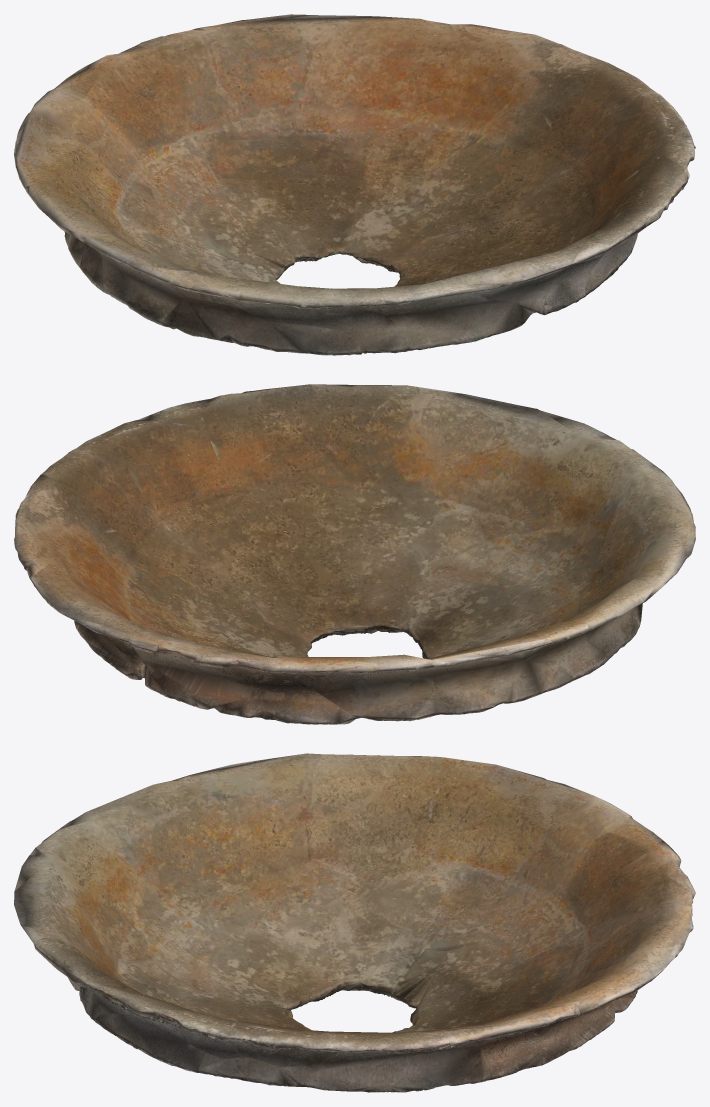
3 renders of one model, top to bottom at view 1: azimuth 30°, elevation 25°; view 2: azimuth 150°, elevation 25°; view 3: azimuth 270°, elevation 25°, orthographic.
Visible parts, largest first — view 1: Mesh_0.007; view 2: Mesh_0.007; view 3: Mesh_0.007.
Part boxes in pixels (x1,y1,x2,y2): Mesh_0.007: [14, 14, 695, 355]; Mesh_0.007: [14, 384, 695, 724]; Mesh_0.007: [14, 753, 695, 1092].
Bounding box in the file's own units: 0.2772 × 0.0627 × 0.2767.
1 material, 1 textured.
